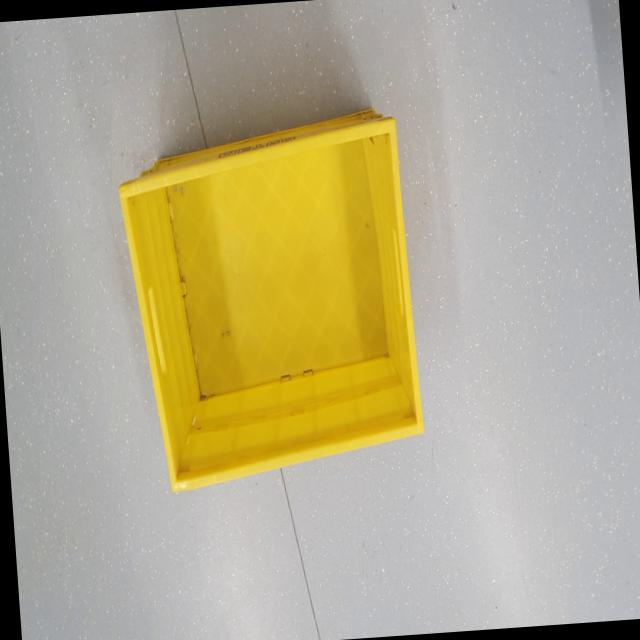box: (102, 68, 436, 511)
